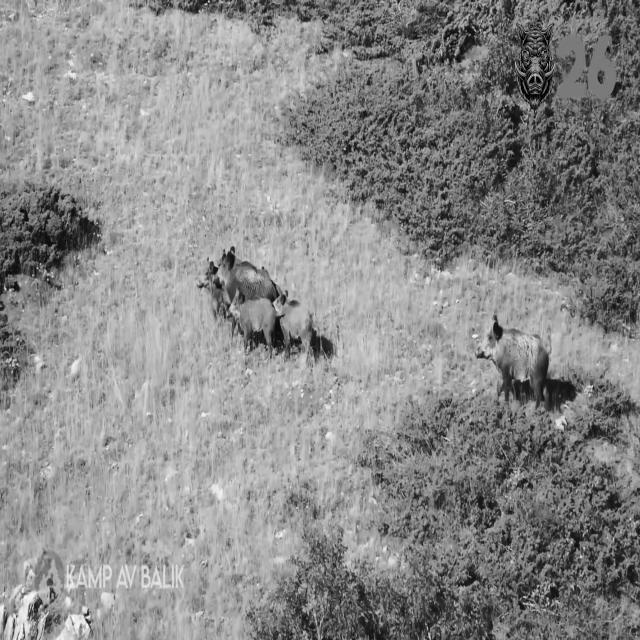boar: (198, 247, 317, 353), (476, 313, 549, 408)
